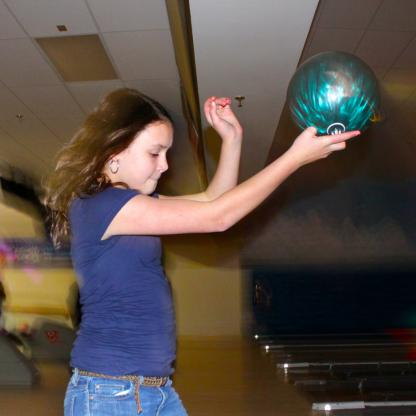Ball: (286, 52, 382, 140)
